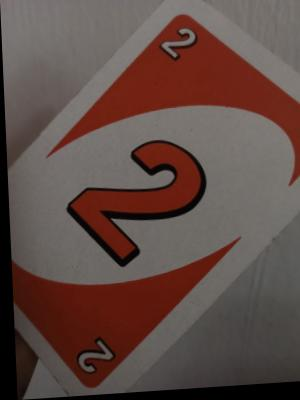num_2: (151, 18, 205, 74), (66, 329, 120, 381)
